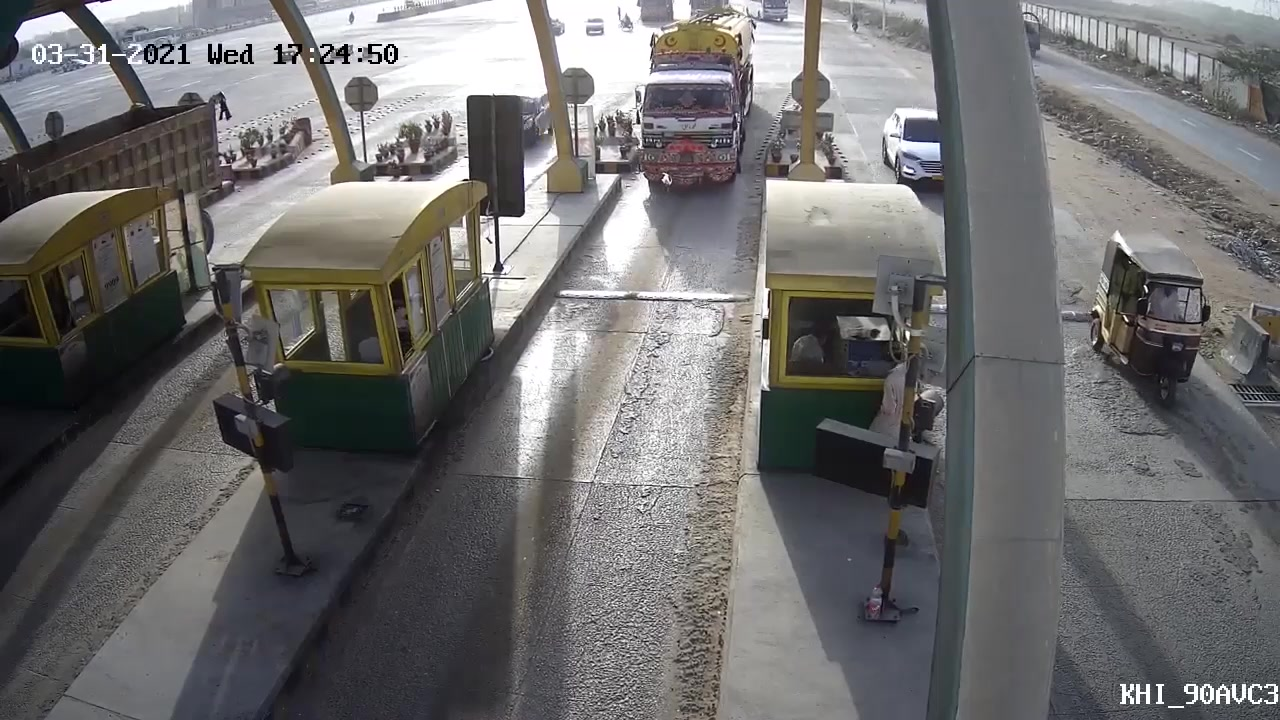F6: (609, 11, 760, 209)
